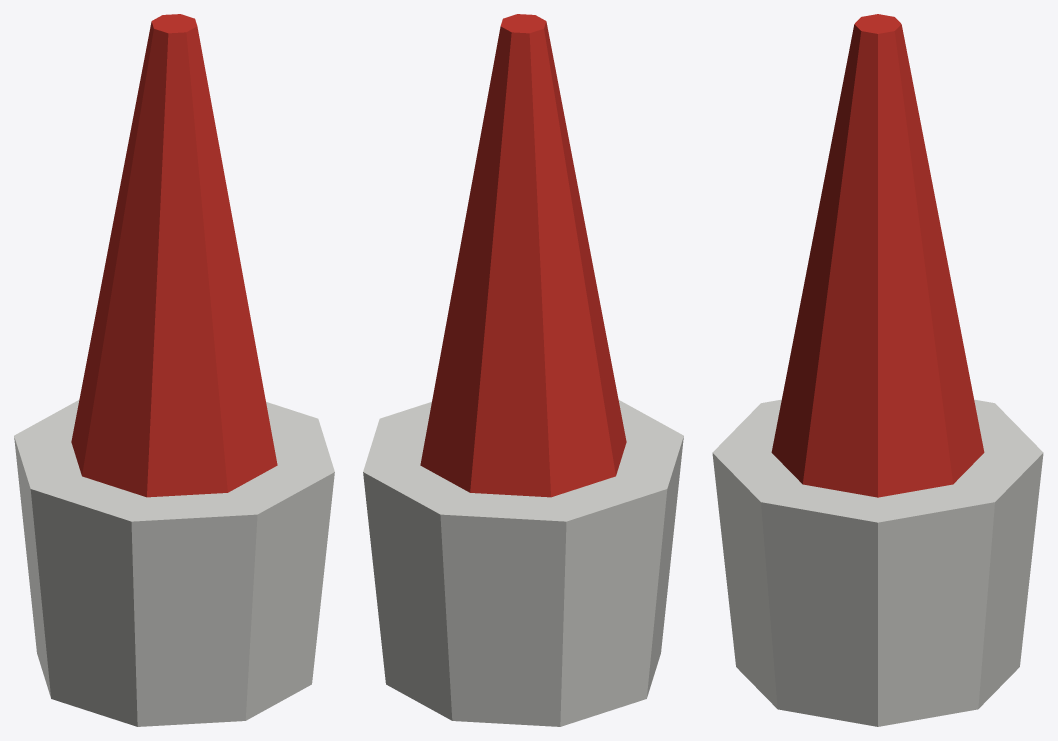
File: Buoy.fbx
3 renders of one model, left to right at view 1: azimuth 30°, elevation 25°; view 2: azimuth 150°, elevation 25°; view 3: azimuth 270°, elevation 25°, orthographic.
Parts seen in each view (by area): view 1: Buoy; view 2: Buoy; view 3: Buoy.
Boxes of the visible parts, x1,y1,x2,y2 form: Buoy: [14, 14, 334, 726]; Buoy: [363, 14, 683, 726]; Buoy: [712, 14, 1043, 726].
Size of the model in its own units: 280 by 600 by 280.
